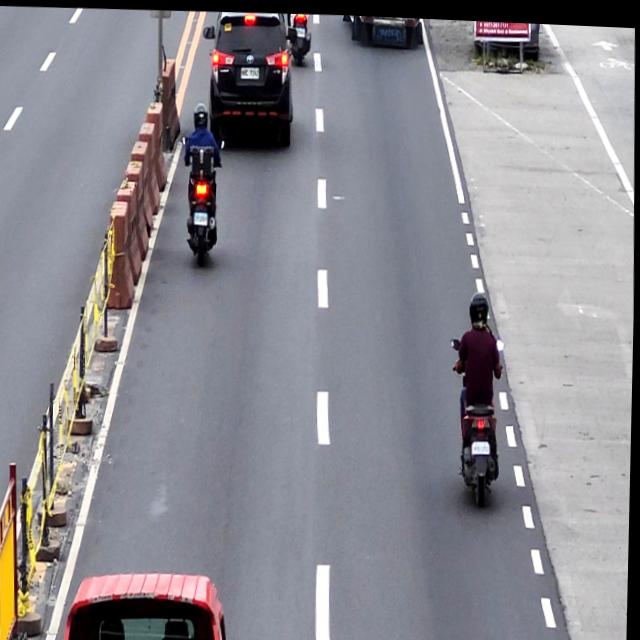Car: (205, 8, 305, 145)
License-Plate: (472, 433, 493, 454), (192, 206, 210, 224), (240, 62, 259, 78)
Motorcycle: (457, 288, 505, 509), (182, 110, 217, 267)
